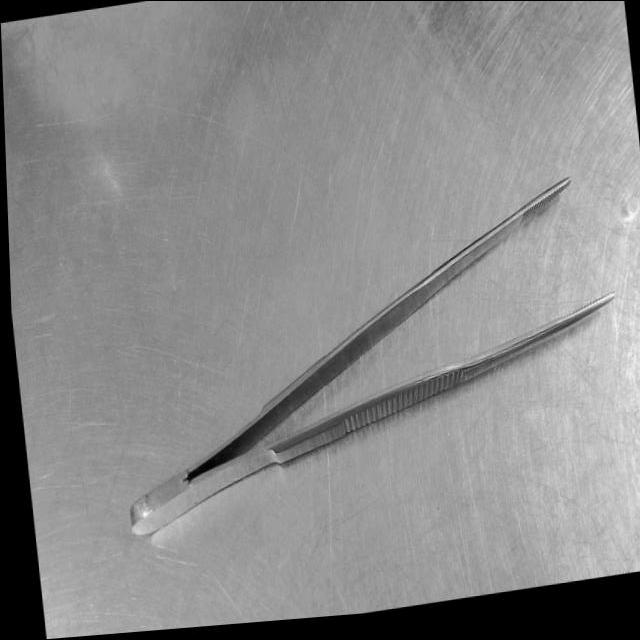Pathological: (0, 0, 639, 639)
Sharps: (125, 172, 615, 538)
